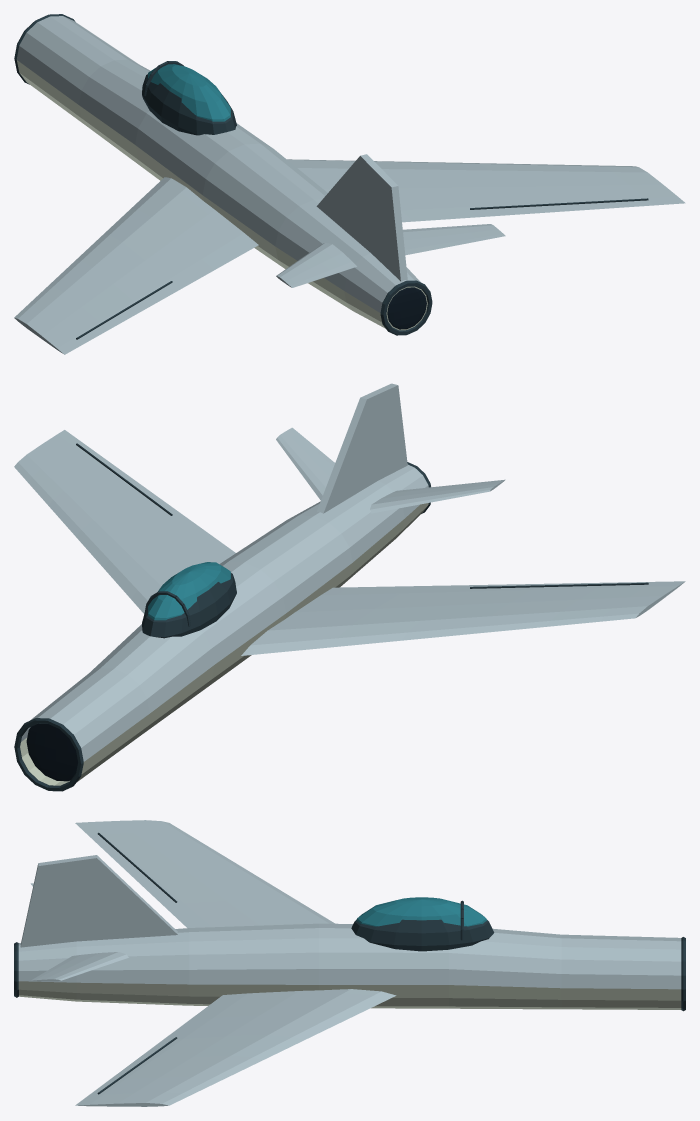
The model's file is archive-f86a.glb.
3 renders of one model, top to bottom at view 1: azimuth 30°, elevation 25°; view 2: azimuth 150°, elevation 25°; view 3: azimuth 270°, elevation 25°, orthographic. The views are drawn at different scales.
Parts seen in each view (by area): view 1: archive-f86a-fuselage.006-geometry, archive-f86a-wing_0_-1.006-geometry, archive-f86a-wing_0_1.006-geometry, archive-f86a-archive-f86a-geometry, archive-f86a-vertical_tail.006-geometry, archive-f86a-tailplane.013-geometry, archive-f86a-tailplane.012-geometry; view 2: archive-f86a-fuselage.006-geometry, archive-f86a-wing_0_-1.006-geometry, archive-f86a-wing_0_1.006-geometry, archive-f86a-archive-f86a-geometry, archive-f86a-vertical_tail.006-geometry, archive-f86a-tailplane.013-geometry, archive-f86a-tailplane.012-geometry; view 3: archive-f86a-fuselage.006-geometry, archive-f86a-wing_0_1.006-geometry, archive-f86a-wing_0_-1.006-geometry, archive-f86a-vertical_tail.006-geometry, archive-f86a-archive-f86a-geometry, archive-f86a-tailplane.013-geometry.
Boxes of the visible parts, left/top/right/bottom form: archive-f86a-fuselage.006-geometry: left=16, top=16, right=427, bottom=330; archive-f86a-wing_0_-1.006-geometry: left=14, top=177, right=258, bottom=354; archive-f86a-wing_0_1.006-geometry: left=287, top=159, right=685, bottom=222; archive-f86a-archive-f86a-geometry: left=14, top=14, right=432, bottom=335; archive-f86a-vertical_tail.006-geometry: left=316, top=154, right=407, bottom=281; archive-f86a-tailplane.013-geometry: left=403, top=224, right=505, bottom=255; archive-f86a-tailplane.012-geometry: left=276, top=243, right=356, bottom=287; archive-f86a-fuselage.006-geometry: left=20, top=464, right=428, bottom=785; archive-f86a-wing_0_-1.006-geometry: left=241, top=581, right=685, bottom=655; archive-f86a-wing_0_1.006-geometry: left=14, top=430, right=235, bottom=613; archive-f86a-archive-f86a-geometry: left=14, top=462, right=430, bottom=791; archive-f86a-vertical_tail.006-geometry: left=317, top=383, right=407, bottom=513; archive-f86a-tailplane.013-geometry: left=276, top=427, right=334, bottom=500; archive-f86a-tailplane.012-geometry: left=370, top=479, right=505, bottom=513; archive-f86a-fuselage.006-geometry: left=18, top=923, right=681, bottom=1009; archive-f86a-wing_0_1.006-geometry: left=75, top=989, right=396, bottom=1106; archive-f86a-wing_0_-1.006-geometry: left=75, top=820, right=334, bottom=927; archive-f86a-vertical_tail.006-geometry: left=20, top=855, right=177, bottom=947; archive-f86a-archive-f86a-geometry: left=14, top=897, right=685, bottom=1011; archive-f86a-tailplane.013-geometry: left=31, top=952, right=128, bottom=981.
Bounding box in the file's own units: 5.93 × 1.48 × 5.96.
